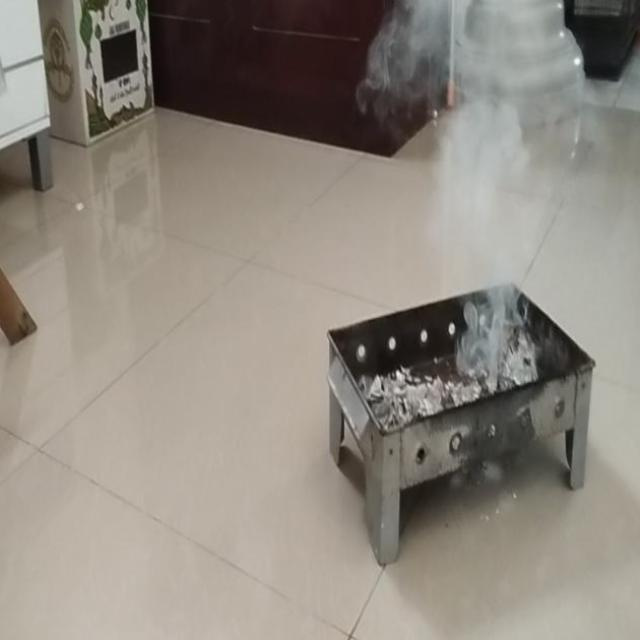fire: (434, 93, 528, 372), (367, 0, 506, 97)
